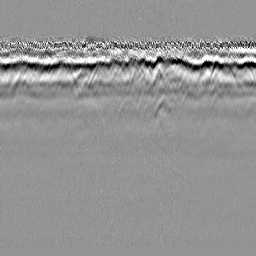cavity: (115, 93, 138, 121)
